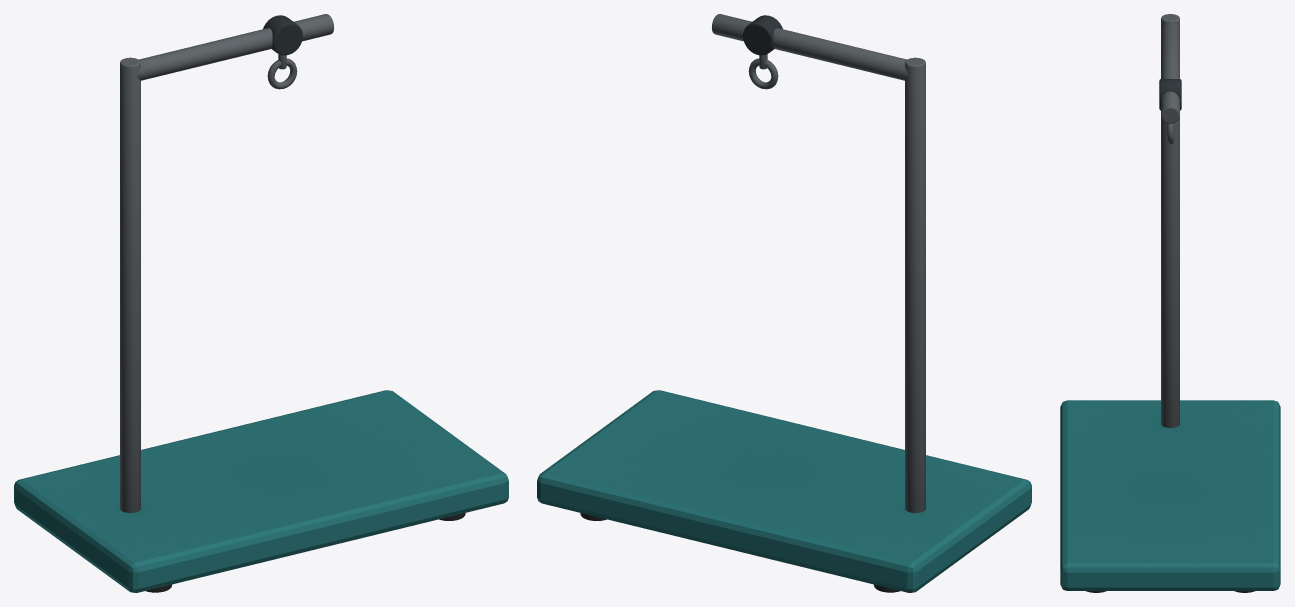
The picture shows the model from 3 angles, left to right: view 1: azimuth 30°, elevation 25°; view 2: azimuth 150°, elevation 25°; view 3: azimuth 270°, elevation 25°; orthographic projection. The views are drawn at different scales.
Size of the model in its own units: 1.45 by 1.81 by 0.8.
1 material, 1 textured.
